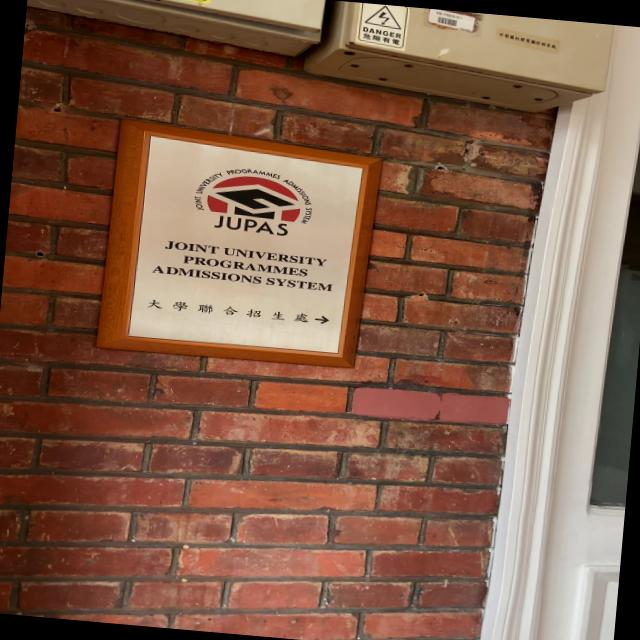jupasOffice: (86, 109, 390, 370)
